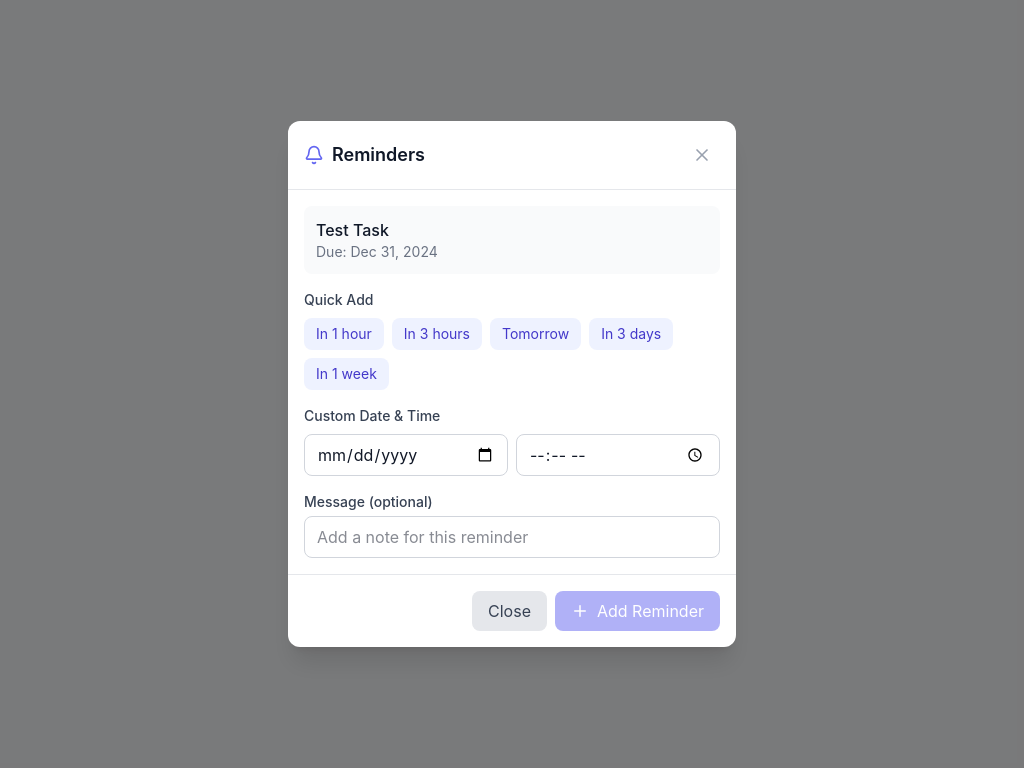
Scenario: ReminderModal › add button is enabled with date and time
Type "2024-12-20" into the date field with test id "custom-date" at (406, 455), box x1=304 y1=434 x2=508 y2=476
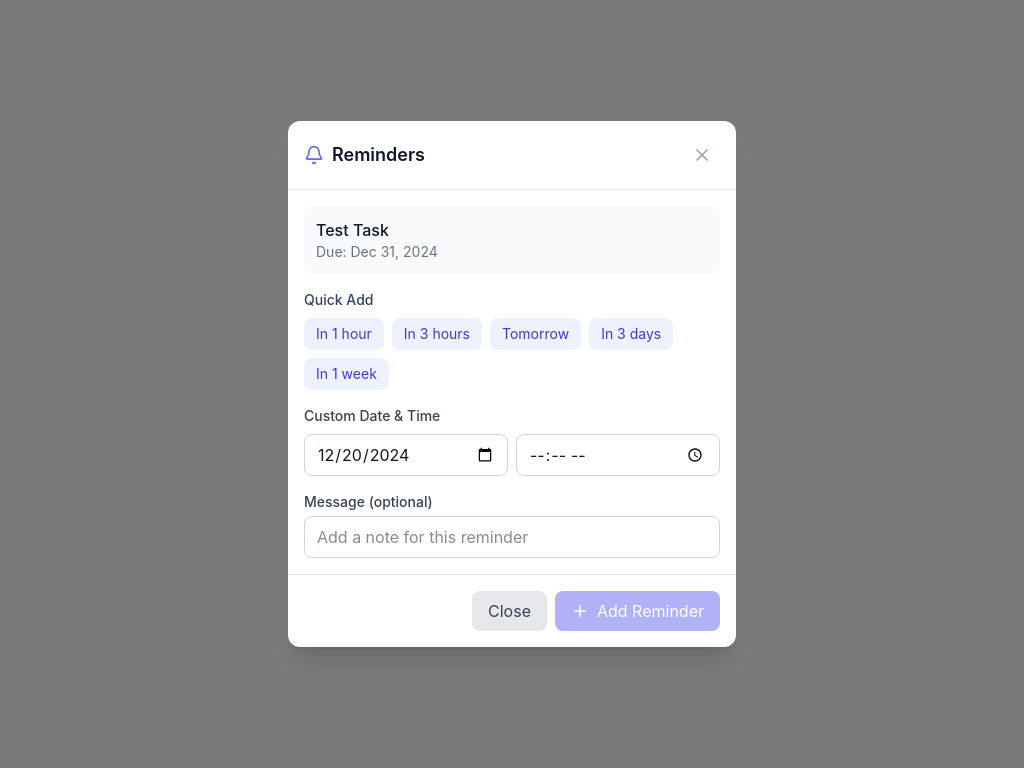
Type "10:00" into the time field with test id "custom-time" at (618, 455), box x1=516 y1=434 x2=720 y2=476
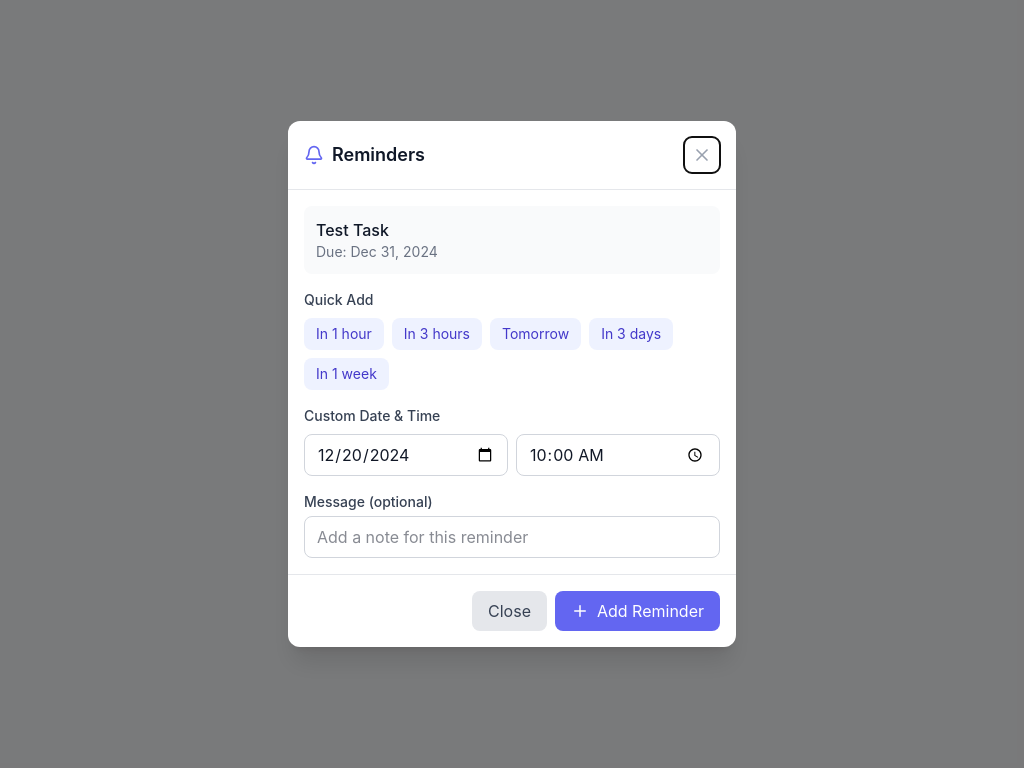
Result: the button with test id "add-reminder-btn" is enabled at x1=555 y1=591 x2=720 y2=631
